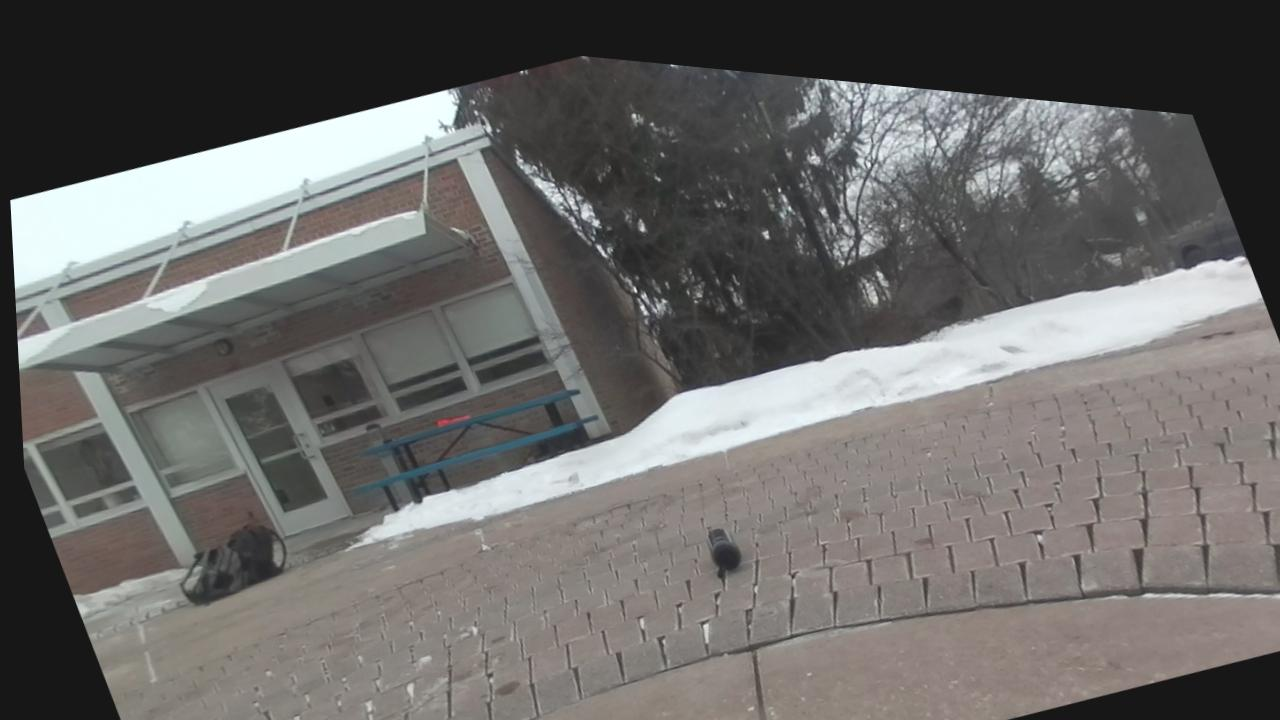bottle: (708, 528, 741, 576)
